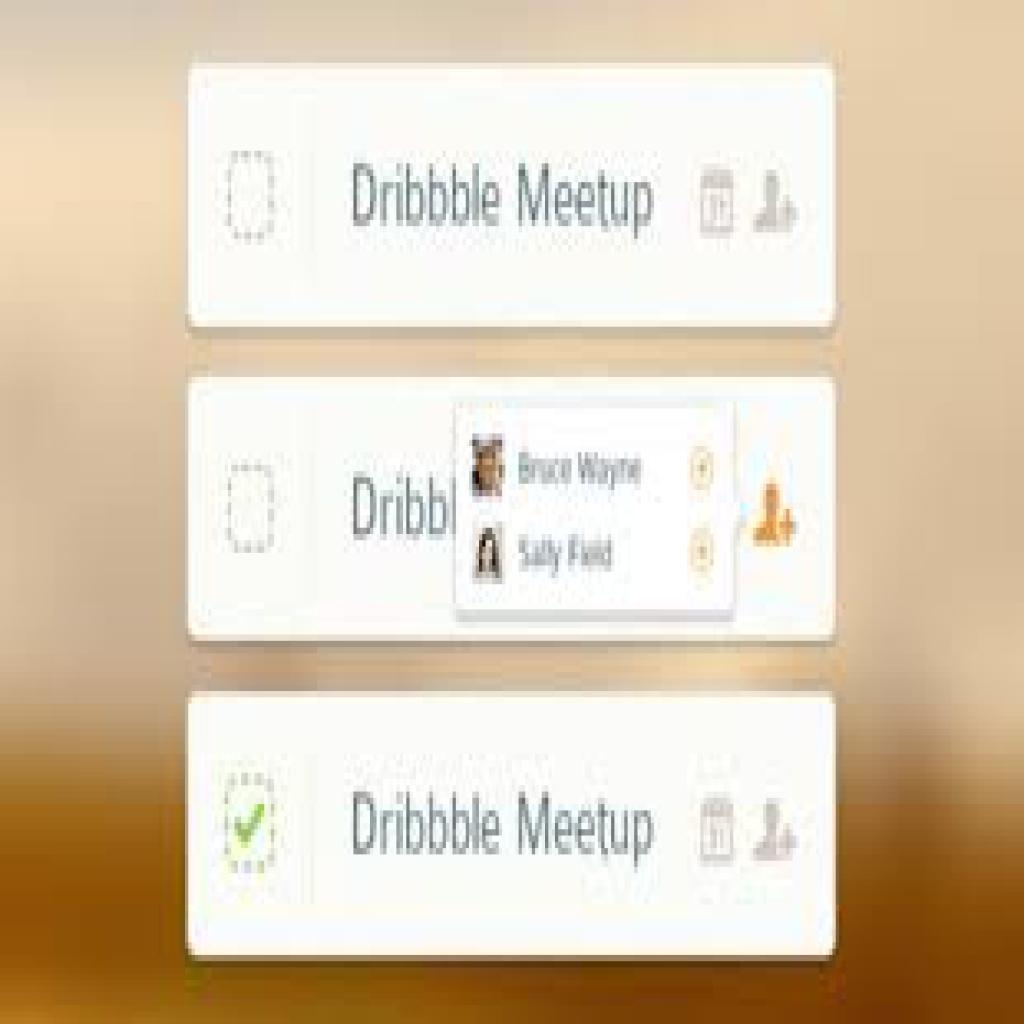checkbox: (219, 776, 282, 875), (225, 461, 278, 558), (226, 150, 279, 246)
